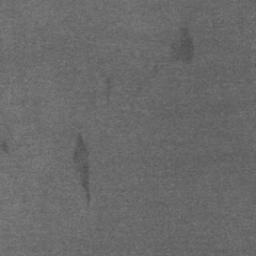Iron scale compression: (75, 133, 91, 200), (179, 28, 194, 63)
